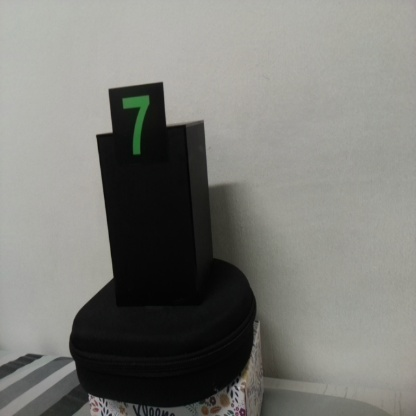id_7: (109, 86, 167, 178)
